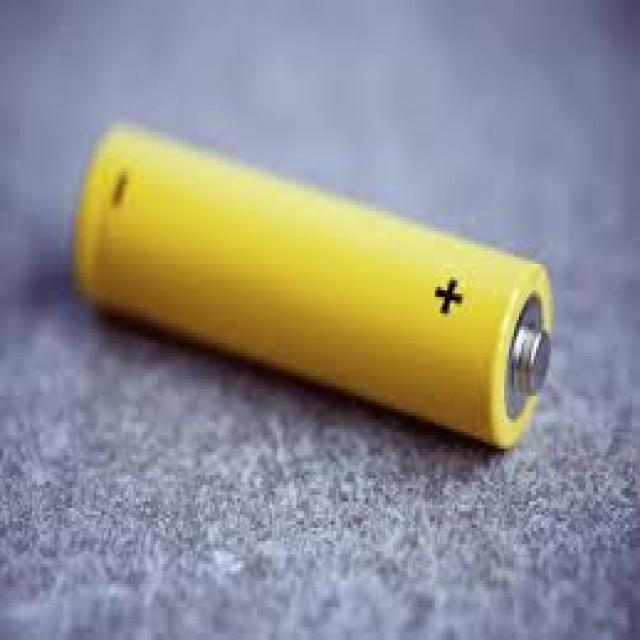Battery: (58, 104, 640, 458)
